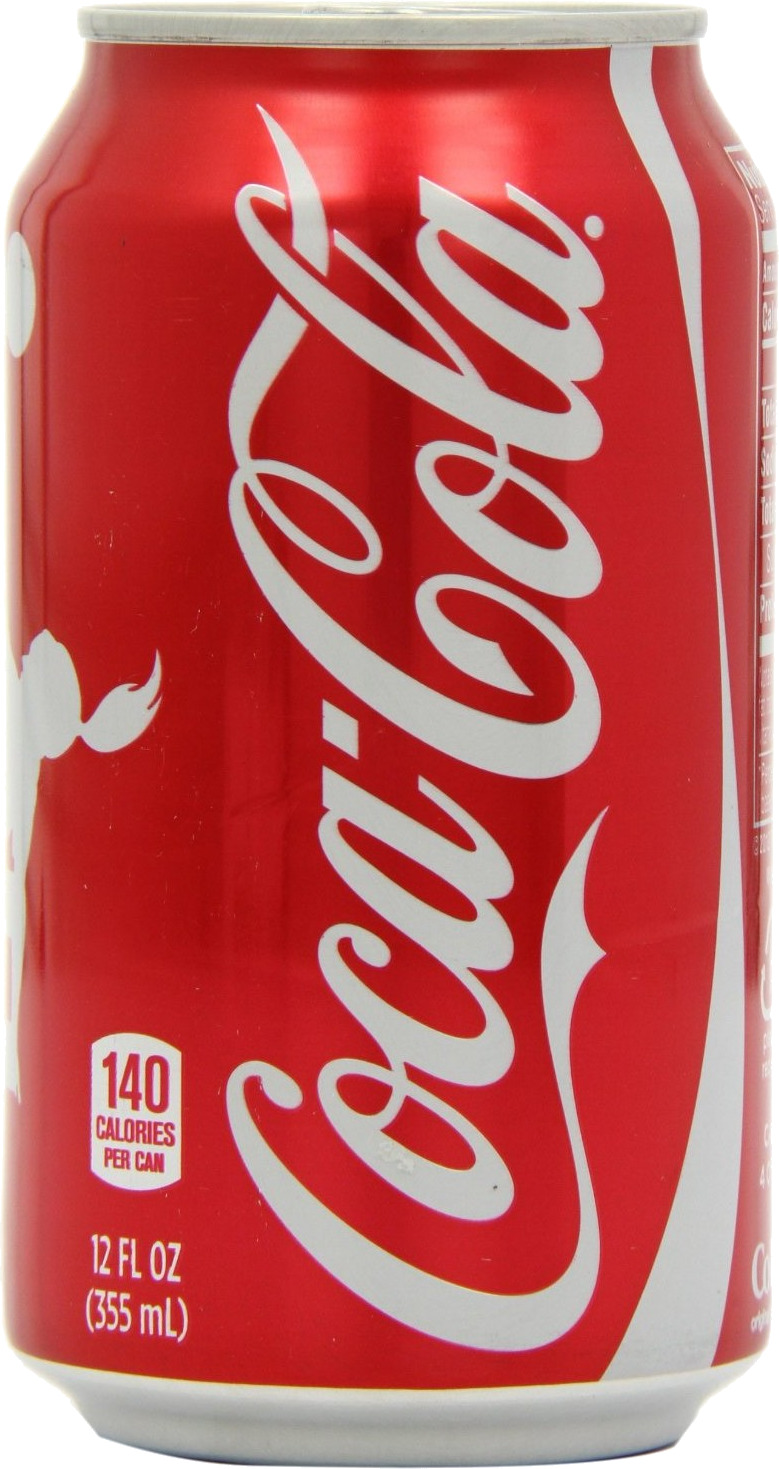coke: (8, 6, 776, 1466)
